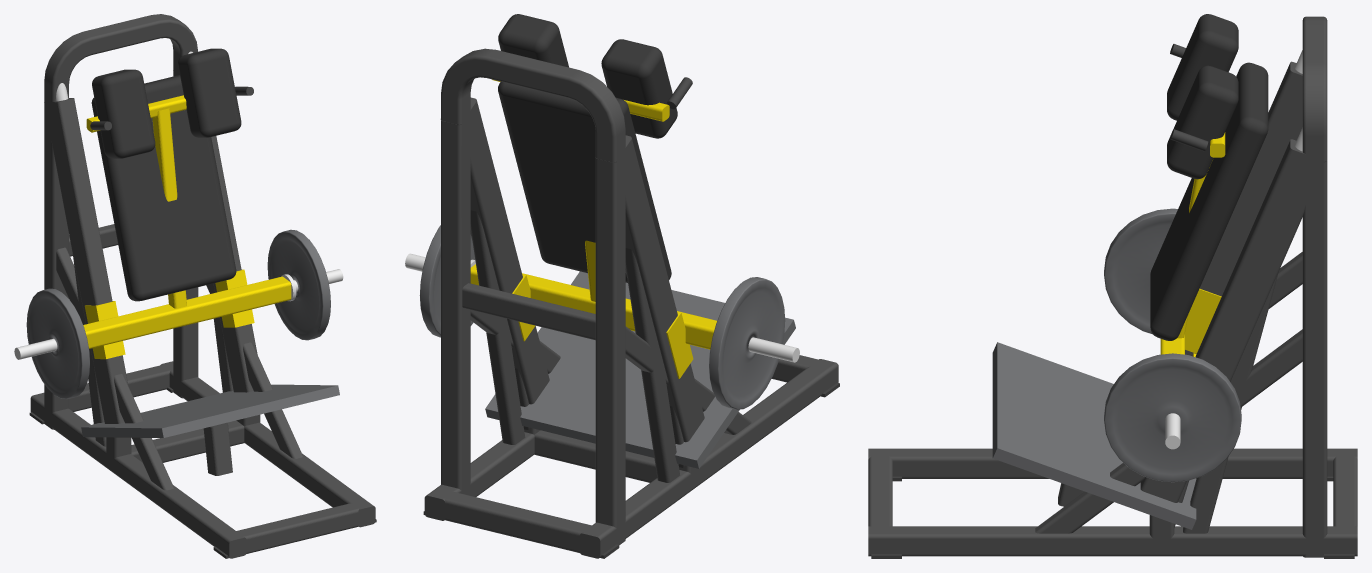
The picture shows the model from 3 angles, left to right: view 1: azimuth 30°, elevation 25°; view 2: azimuth 150°, elevation 25°; view 3: azimuth 270°, elevation 25°; orthographic projection. The views are drawn at different scales.
Parts seen in each view (by area): view 1: backrest_pad, base, carriage, rail_beam (×2), rear_arch_tube, shoulder_pad (×2), frame, foot_plate, carriage_beam, carriage_slider (×2), plate_horn; view 2: rear_arch_tube, base, backrest_pad, rail_beam (×2), foot_plate, frame, carriage, shoulder_pad (×2), rear_tie, carriage_beam, carriage_slider, plate_horn; view 3: base, carriage, rail_beam (×2), foot_plate, rear_arch_tube, backrest_pad, frame, shoulder_pad (×2), carriage_slider.
Part boxes in pixels (x1,y1,x2,y2): backrest_pad: (91, 75, 236, 301); base: (29, 361, 376, 558); carriage: (26, 95, 330, 398); rail_beam (×2): (44, 70, 257, 423); rear_arch_tube: (44, 14, 198, 429); shoulder_pad (×2): (92, 48, 241, 158); frame: (56, 247, 302, 490); foot_plate: (81, 384, 339, 437); carriage_beam: (83, 276, 291, 348); carriage_slider (×2): (84, 269, 254, 359); plate_horn: (14, 338, 57, 359); rear_arch_tube: (441, 48, 625, 544); base: (423, 355, 839, 558); backrest_pad: (498, 81, 671, 282); rail_beam (×2): (440, 97, 704, 442); foot_plate: (485, 271, 795, 468); frame: (470, 210, 751, 482); carriage: (419, 79, 785, 409); shoulder_pad (×2): (498, 14, 677, 138); rear_tie: (462, 283, 595, 340); carriage_beam: (470, 264, 716, 349); carriage_slider: (666, 311, 693, 378); plate_horn: (748, 337, 799, 362); base: (868, 448, 1357, 558); carriage: (1104, 132, 1241, 482); rail_beam (×2): (1140, 61, 1326, 502); foot_plate: (992, 342, 1196, 529); rear_arch_tube: (1302, 16, 1327, 557); backrest_pad: (1150, 62, 1268, 340); frame: (1035, 252, 1302, 546); shoulder_pad (×2): (1167, 14, 1238, 179); carriage_slider: (1185, 288, 1221, 353).
Bounding box in the file's own units: 1.5 × 1.7 × 1.6.
